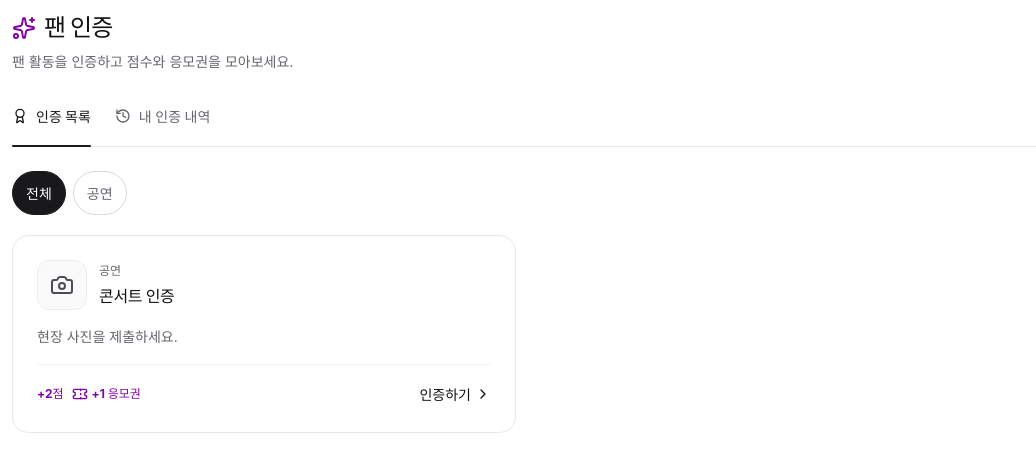
CertificationPanel › renders the public kind union and loads private history only after the history tab is selected
The image size is (1036, 450).
Check: the link "공연 콘서트 인증 현장 사진을 제출하세요. +2점 +1 응모권 인증하기" is shown, box left=12, top=235, right=516, bottom=433
Click the tab "내 인증 내역" at (163,122), box left=115, top=98, right=210, bottom=146
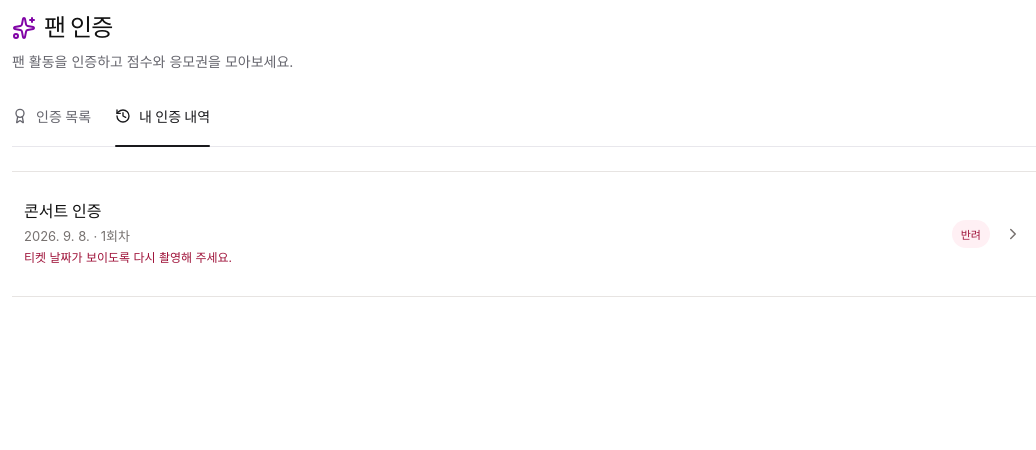
Check: the text "티켓 날짜가 보이도록 다시 촬영해 주세요." is shown, box left=24, top=250, right=232, bottom=265
